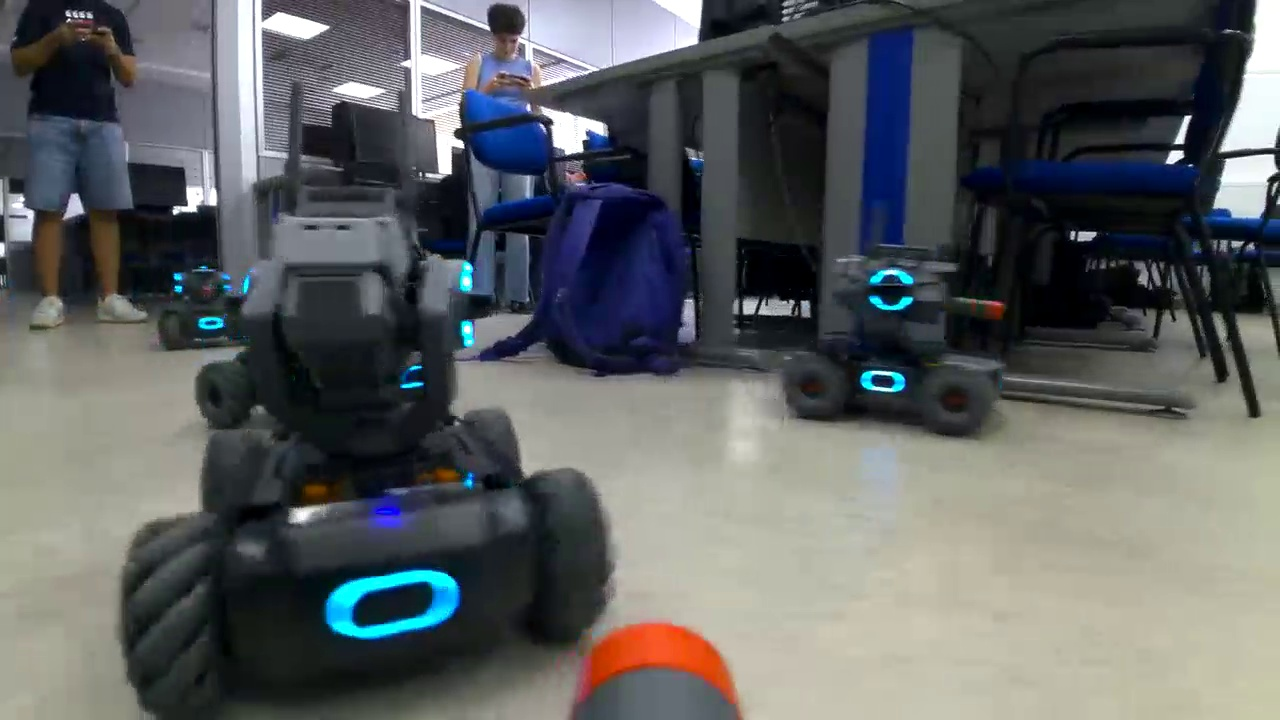robot: (108, 153, 618, 720), (776, 236, 1017, 447), (150, 247, 278, 365)
